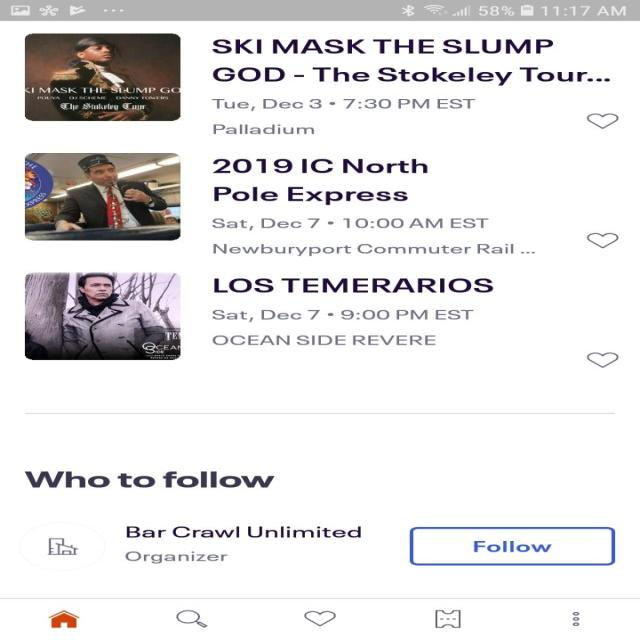Icon: (175, 609, 208, 628), (48, 609, 80, 628), (303, 610, 336, 627), (585, 232, 618, 248), (586, 113, 618, 129), (434, 609, 460, 628), (586, 352, 618, 367), (572, 611, 580, 626)
Image: (24, 152, 180, 241), (23, 33, 180, 121), (23, 272, 180, 360), (19, 522, 106, 570)
Text: (212, 38, 610, 86), (210, 218, 536, 256), (212, 158, 428, 205), (210, 98, 476, 134), (212, 309, 474, 345), (24, 470, 275, 488), (214, 278, 494, 292), (125, 526, 361, 538), (125, 550, 228, 564)
TextButton: (409, 526, 615, 566)
